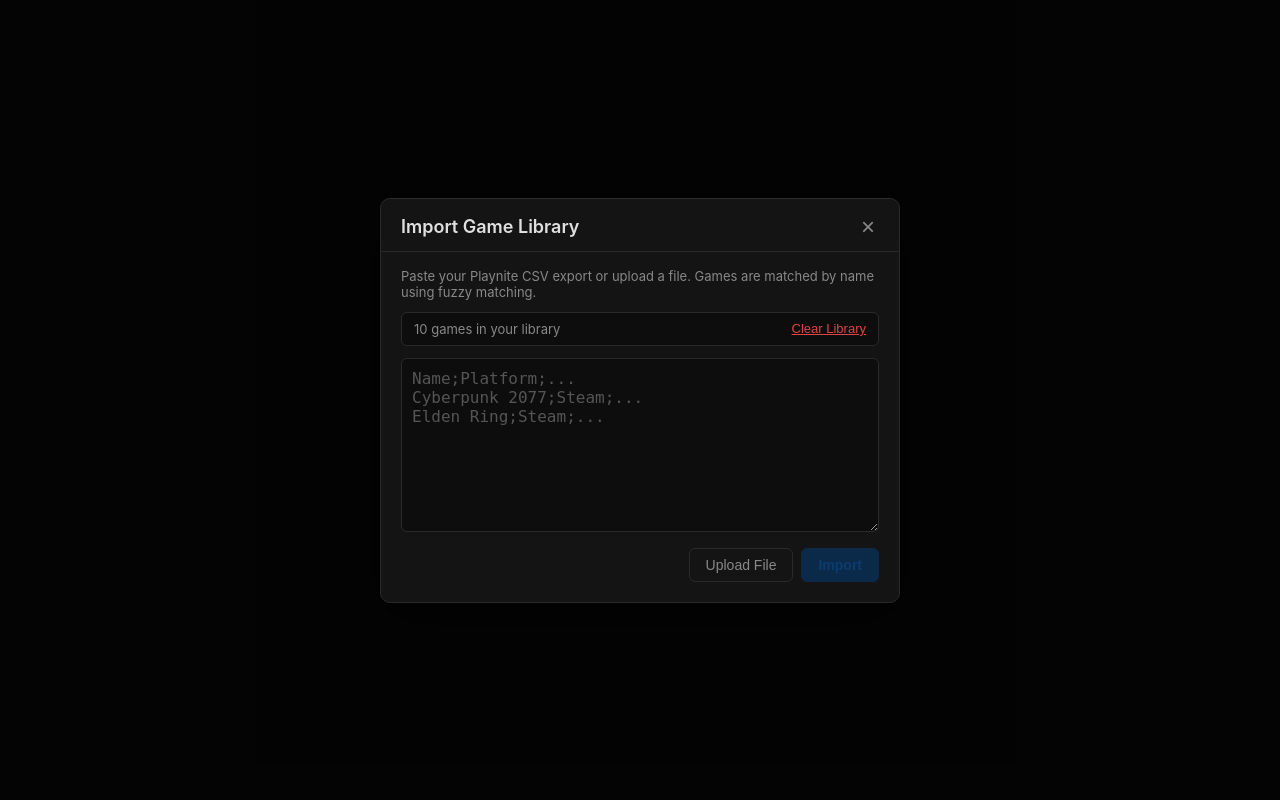
Test: ImportModal component › cancelling clear hides confirmation
Click the button "Clear Library" at coordinates (829, 328), box [792,321,866,336]
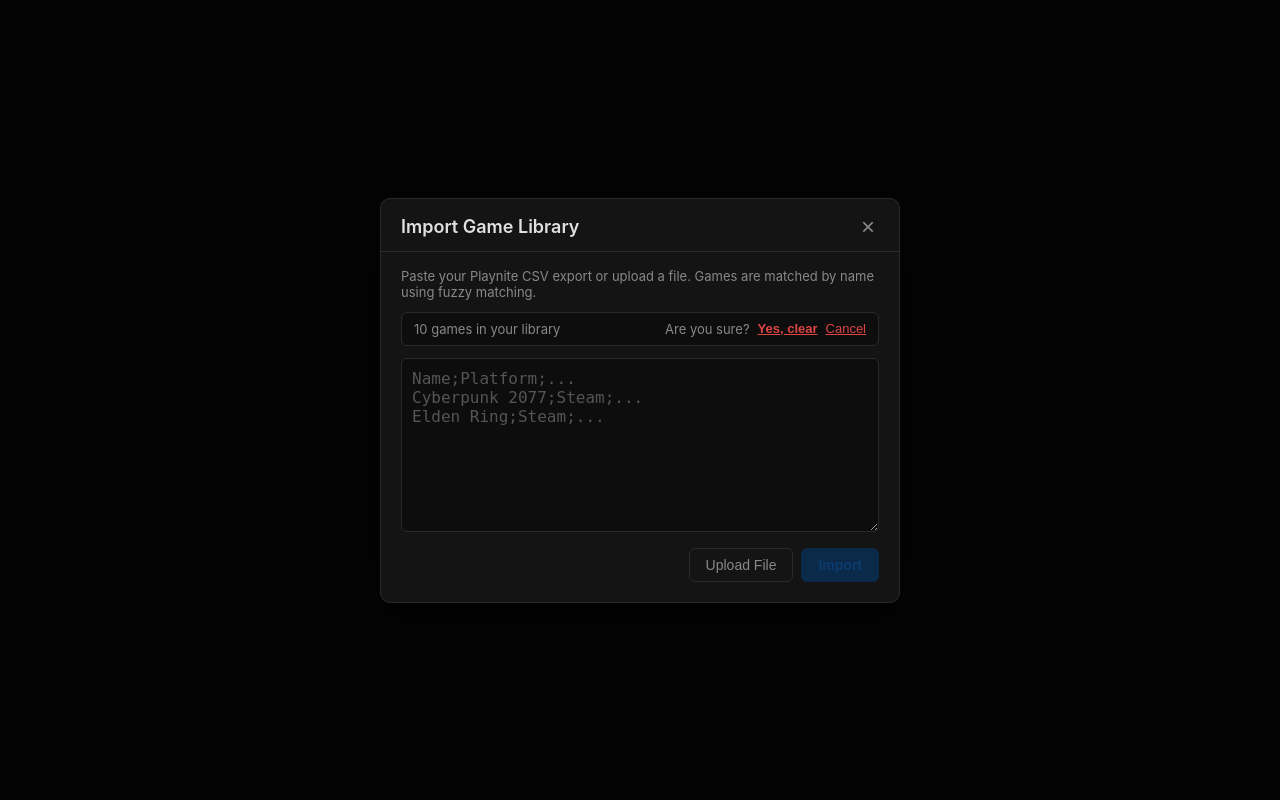
Click the button "Cancel" at coordinates (846, 328), box [826,321,866,336]
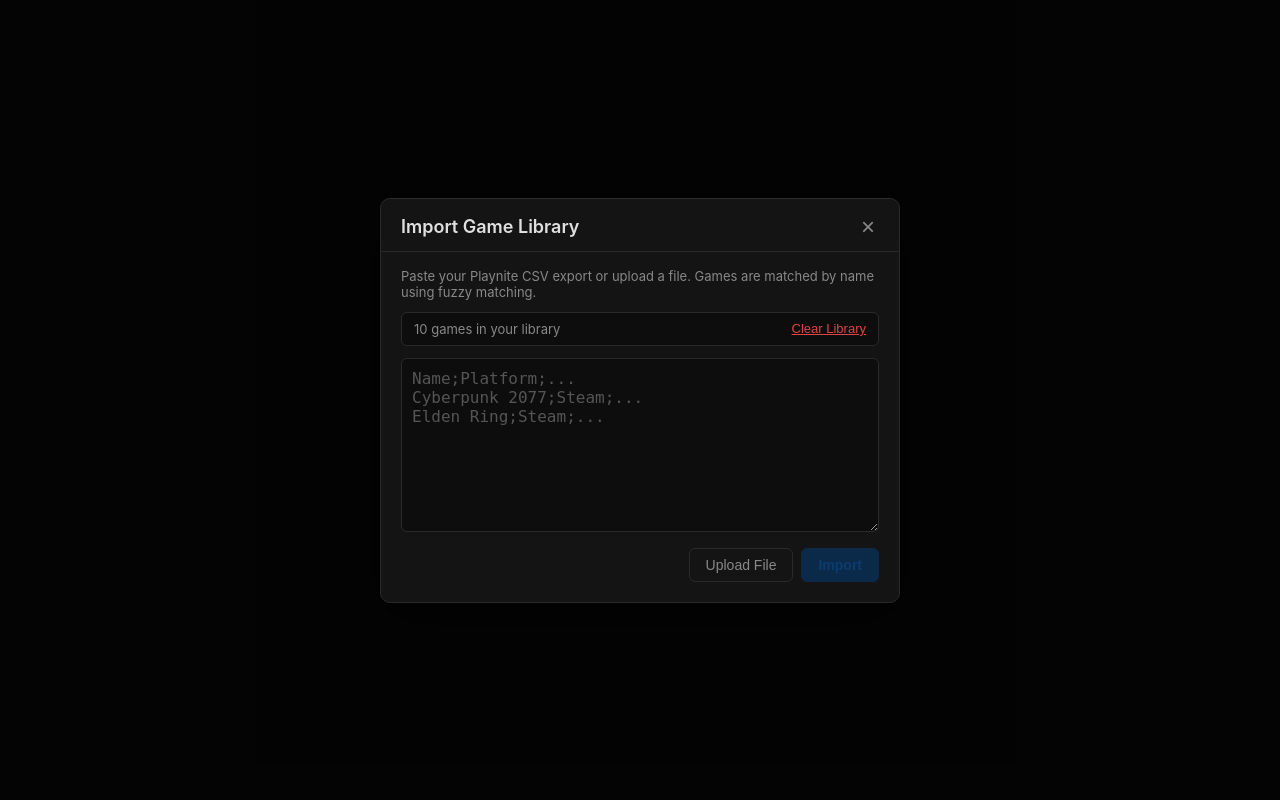
Now the text "Are you sure?" is gone
Now the button "Clear Library" is shown, box [792,321,866,336]
